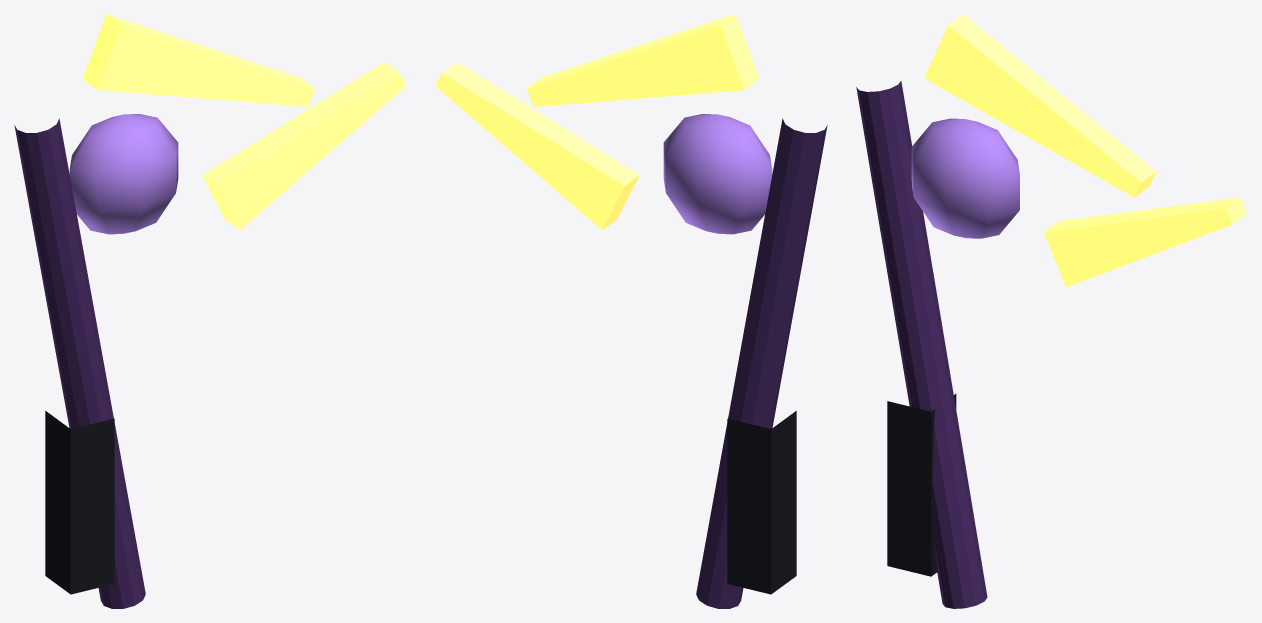
The model's file is scythe-of-vyse.glb.
3 renders of one model, left to right at view 1: azimuth 30°, elevation 25°; view 2: azimuth 150°, elevation 25°; view 3: azimuth 330°, elevation 25°, orthographic.
Parts seen in each view (by area): view 1: scythe-of-vyse-shaft, scythe-of-vyse-crescent-back, scythe-of-vyse-grip-wrap, scythe-of-vyse-crescent-hook, scythe-of-vyse-hex-gem; view 2: scythe-of-vyse-shaft, scythe-of-vyse-crescent-back, scythe-of-vyse-grip-wrap, scythe-of-vyse-crescent-hook, scythe-of-vyse-hex-gem; view 3: scythe-of-vyse-shaft, scythe-of-vyse-crescent-back, scythe-of-vyse-hex-gem, scythe-of-vyse-crescent-hook, scythe-of-vyse-grip-wrap.
Part boxes in pixels (x1=…): scythe-of-vyse-shaft: x1=14, y1=118, x2=145, y2=608; scythe-of-vyse-crescent-back: x1=82, y1=14, x2=314, y2=106; scythe-of-vyse-grip-wrap: x1=45, y1=411, x2=114, y2=594; scythe-of-vyse-crescent-hook: x1=202, y1=62, x2=406, y2=230; scythe-of-vyse-hex-gem: x1=69, y1=114, x2=178, y2=234; scythe-of-vyse-shaft: x1=696, y1=118, x2=827, y2=608; scythe-of-vyse-crescent-back: x1=527, y1=14, x2=759, y2=106; scythe-of-vyse-grip-wrap: x1=727, y1=411, x2=796, y2=594; scythe-of-vyse-crescent-hook: x1=435, y1=62, x2=639, y2=230; scythe-of-vyse-hex-gem: x1=663, y1=114, x2=772, y2=234; scythe-of-vyse-shaft: x1=856, y1=81, x2=987, y2=608; scythe-of-vyse-crescent-back: x1=924, y1=14, x2=1156, y2=197; scythe-of-vyse-hex-gem: x1=911, y1=118, x2=1019, y2=238; scythe-of-vyse-crescent-hook: x1=1044, y1=197, x2=1247, y2=287; scythe-of-vyse-grip-wrap: x1=887, y1=393, x2=956, y2=576.
Size of the model in its own units: 0.8692 by 1.27 by 0.1522.
